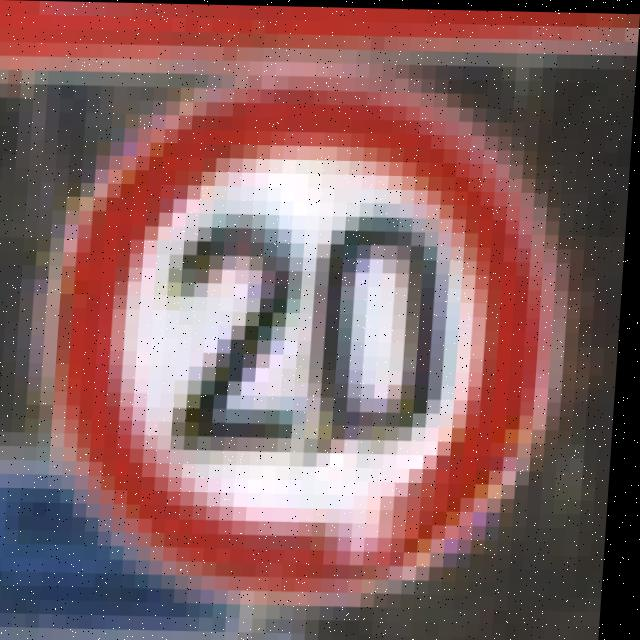speed_limit_20: (29, 76, 575, 607)
